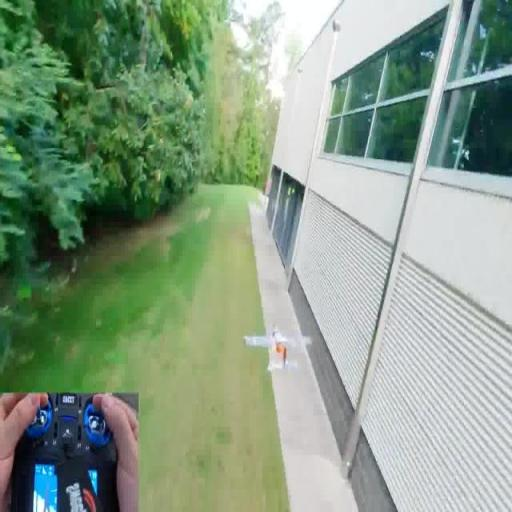uav: (239, 322, 315, 378)
